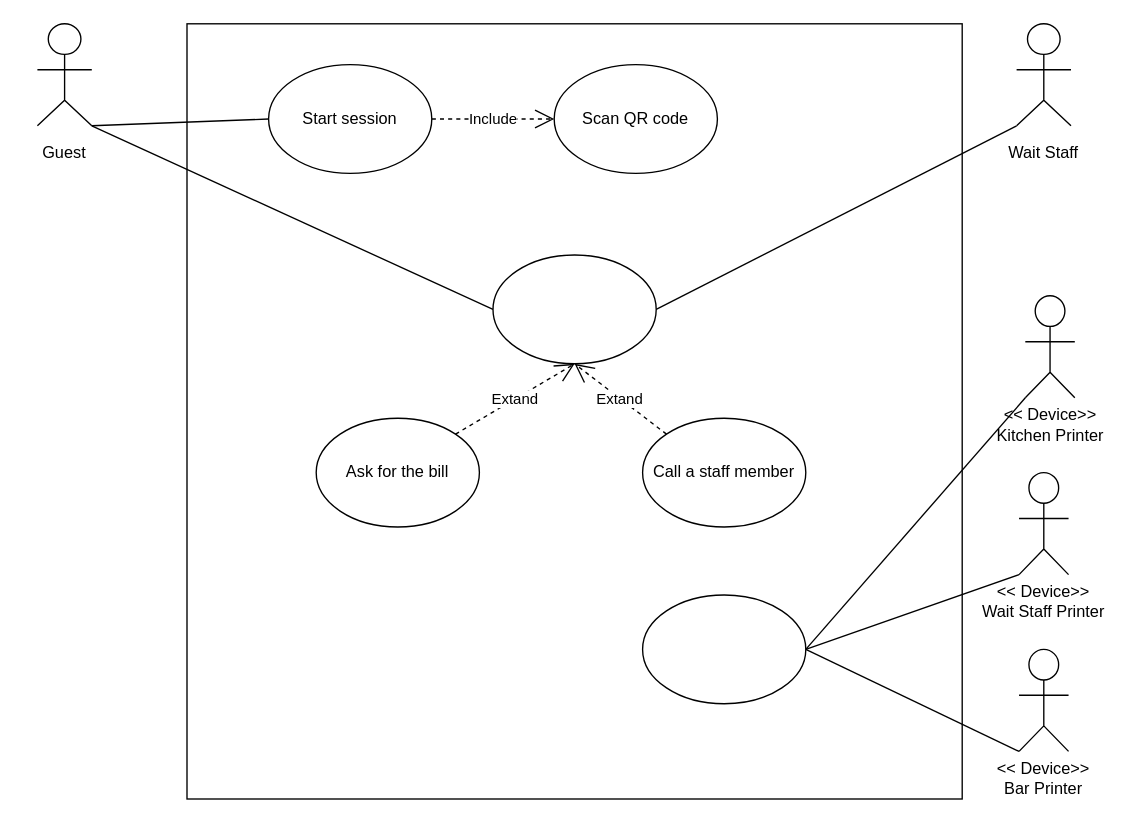
This 1141x823 diagram has some shape labels left out. Each missing label, with the centre of its shape:
"Place order" goes at [574,309].
"Print Orders" goes at [723,649].
